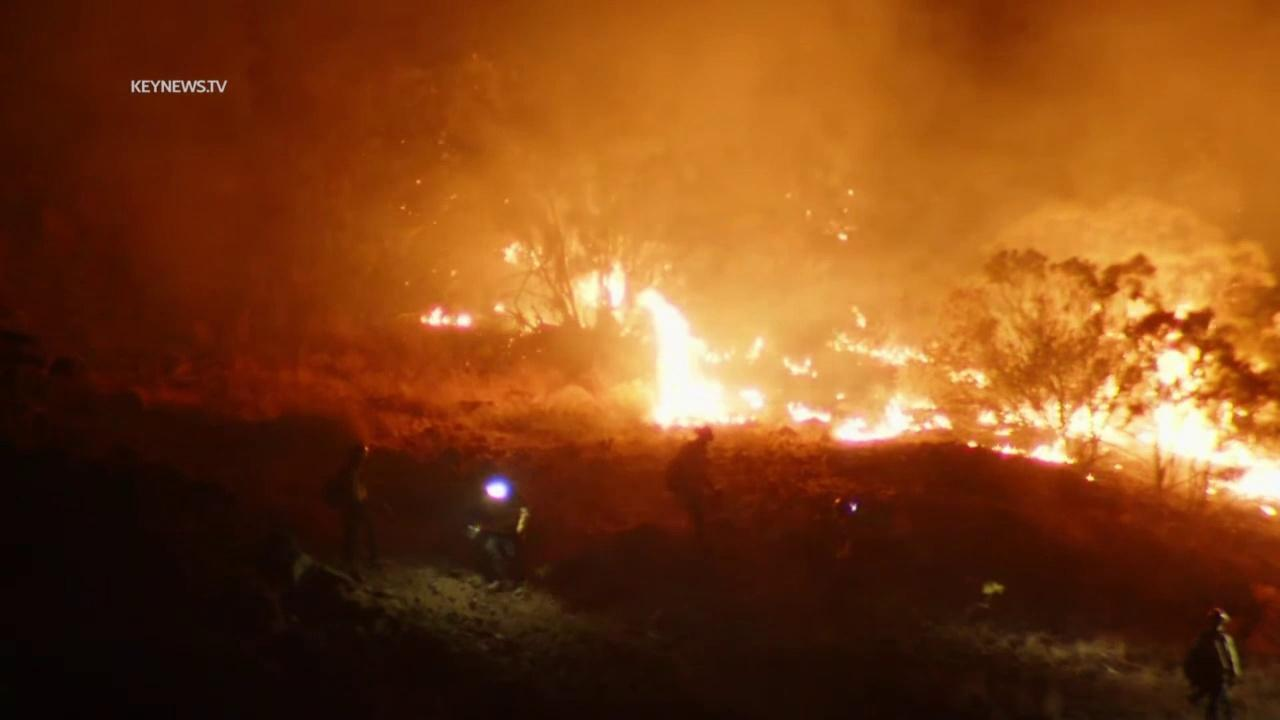fire: (964, 300, 1280, 516), (633, 281, 770, 432), (827, 303, 934, 369), (826, 394, 955, 445), (574, 252, 627, 308), (417, 303, 472, 334), (497, 238, 546, 270), (946, 360, 994, 389), (782, 398, 833, 423), (780, 354, 821, 377), (493, 302, 514, 316)
smoke: (0, 0, 1280, 554)
